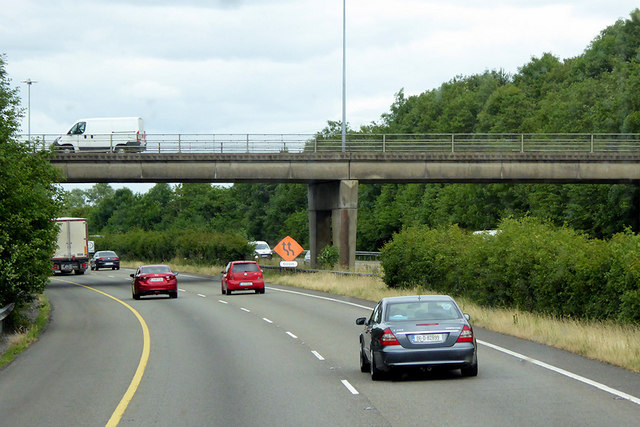bridge: (15, 130, 640, 181)
